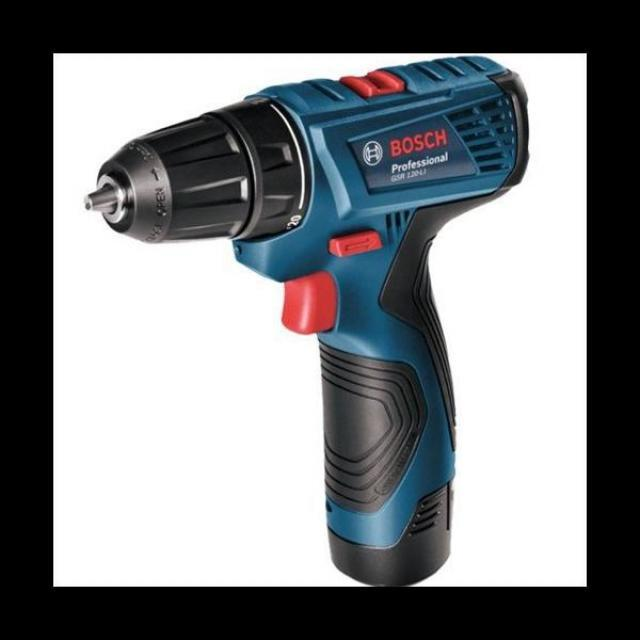drill: (83, 55, 530, 588)
